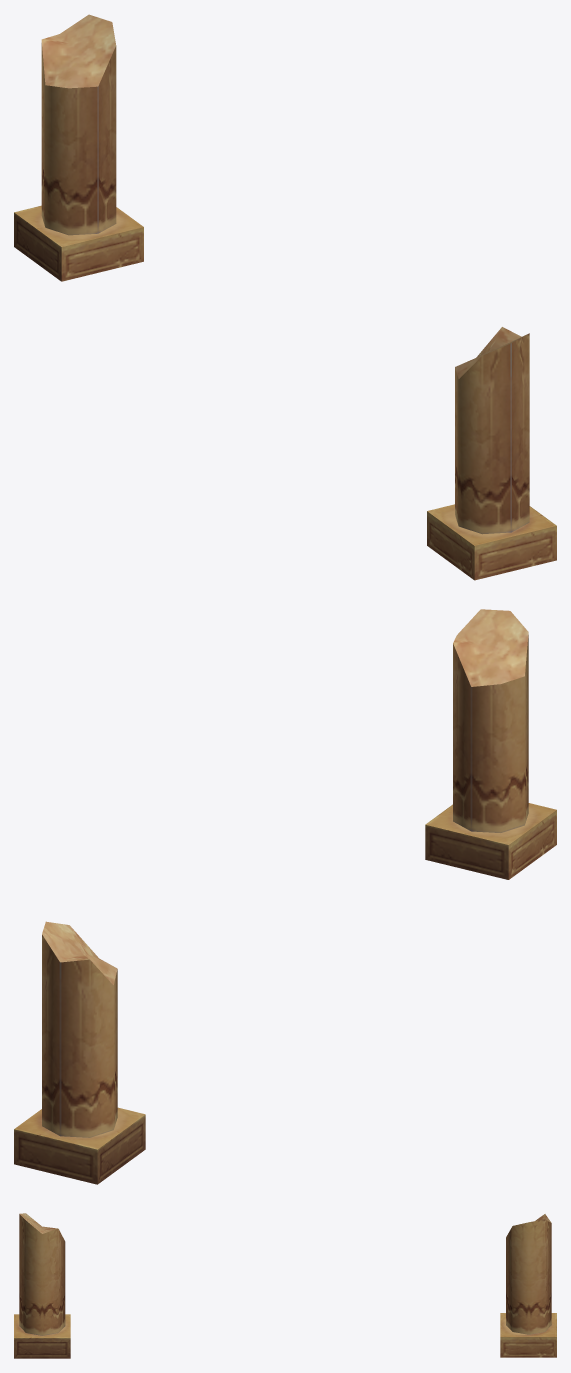
The model's file is Area_01_6.fbx.
The picture shows the model from 3 angles, top to bottom: view 1: azimuth 30°, elevation 25°; view 2: azimuth 150°, elevation 25°; view 3: azimuth 270°, elevation 25°; orthographic projection. The views are drawn at different scales.
Parts seen in each view (by area): view 1: Area_01_6; view 2: Area_01_6; view 3: Area_01_6.
Part boxes in pixels (box(x1,y1,x2,y2)): Area_01_6: box(14, 14, 556, 580); Area_01_6: box(14, 609, 556, 1184); Area_01_6: box(14, 1213, 556, 1358).
Bounding box in the file's own units: 284 × 705 × 2608.
Materials: 1 (1 with a texture image).
